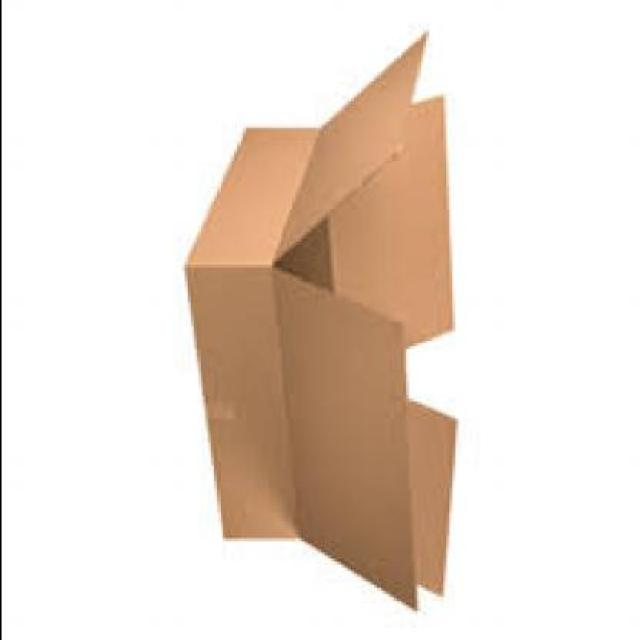CARDBOARD: (186, 29, 454, 605)
